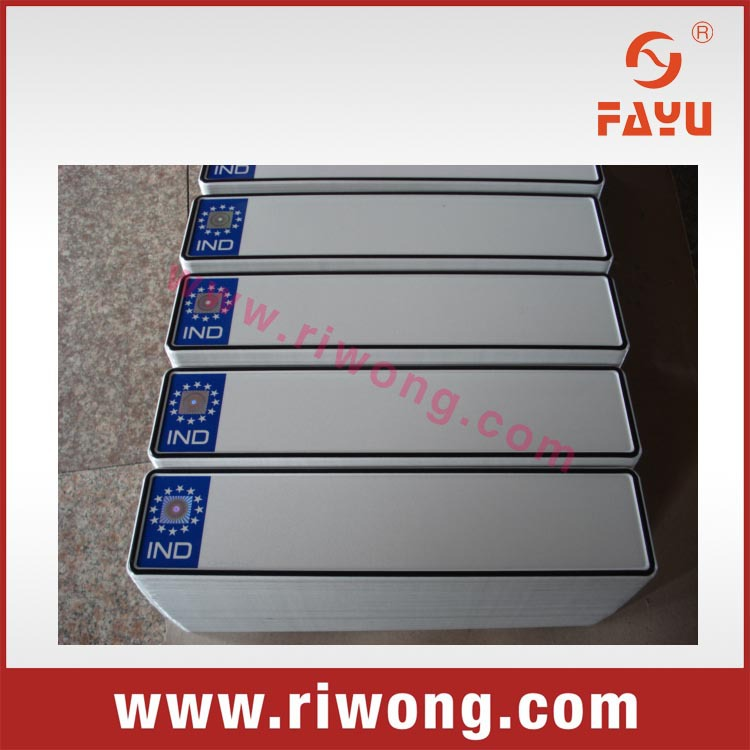inlp: (120, 464, 669, 586), (133, 344, 663, 470), (155, 264, 639, 362), (162, 186, 626, 273)
